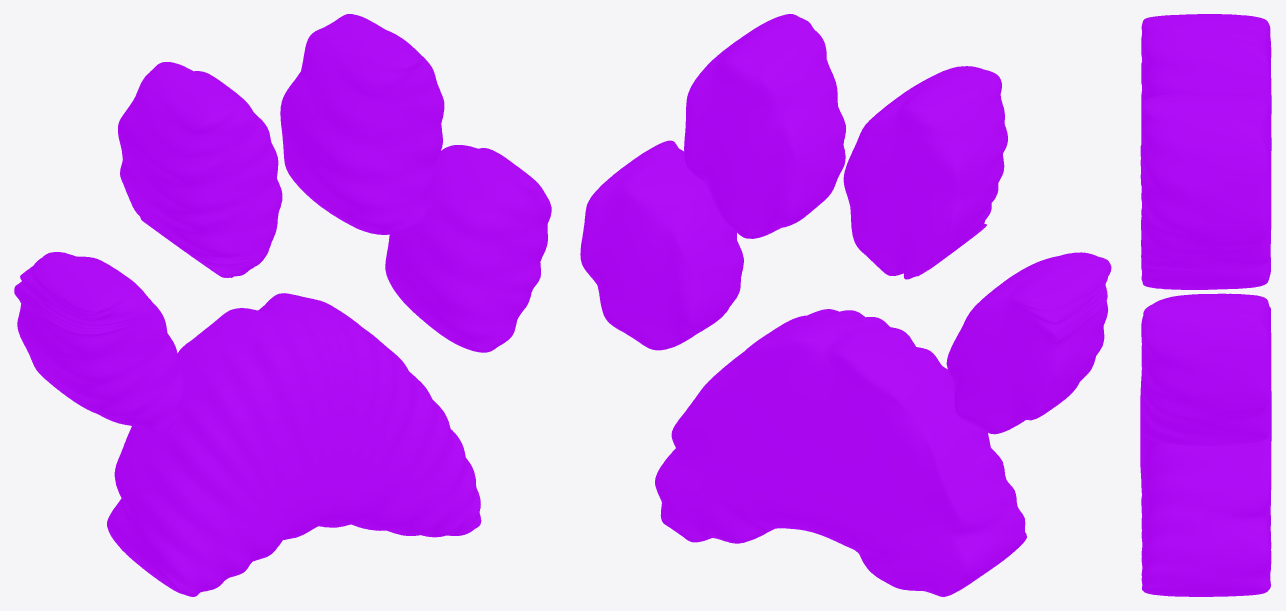
File: paw-draco.glb
3 views of the same model, side by side, from view 1: azimuth 30°, elevation 25°; view 2: azimuth 150°, elevation 25°; view 3: azimuth 270°, elevation 25° (orthographic). The views are drawn at different scales.
Parts seen in each view (by area): view 1: paw; view 2: paw; view 3: paw.
Part boxes in pixels (x1,y1,x2,y2): paw: (14, 14, 551, 596); paw: (580, 14, 1111, 596); paw: (1140, 14, 1271, 596).
Bounding box in the file's own units: 40.03 × 39.23 × 9.86.
